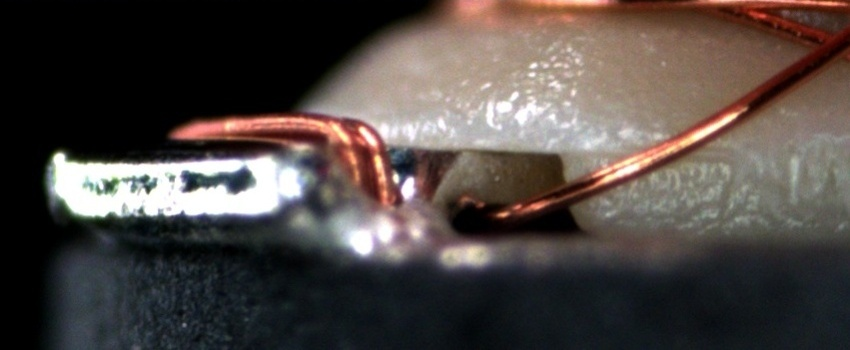CL: (799, 17, 848, 71)
DL: (576, 123, 749, 182)
TE: (163, 107, 400, 213)
